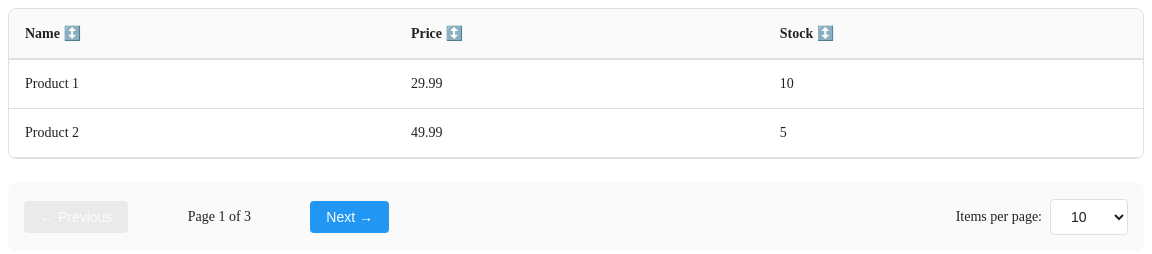
it: Table Component › should reset to page 1 when sorting changes
What coordinates should you click on to do the following:
click the button "Next →"
I would click on:
 (350, 217)
Its box is [310,201,389,233].
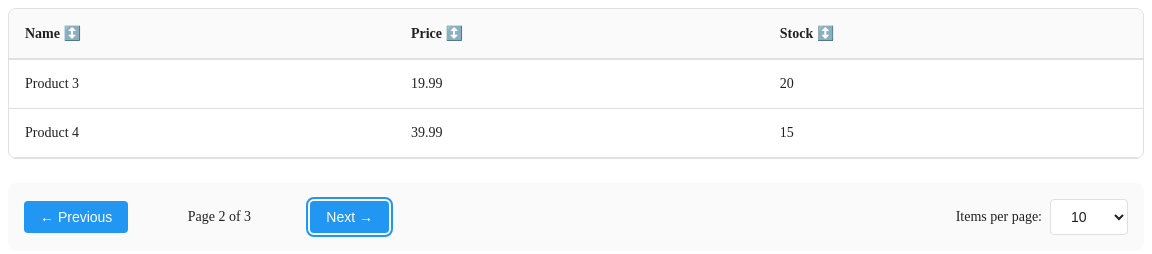
expect the text "Product 3" is shown: met, box [9,59,395,108]
What coordinates should you click on to do the following:
click the column heading "Name ↕️"
I would click on:
 (42, 34)
Its box is [9,9,395,59].
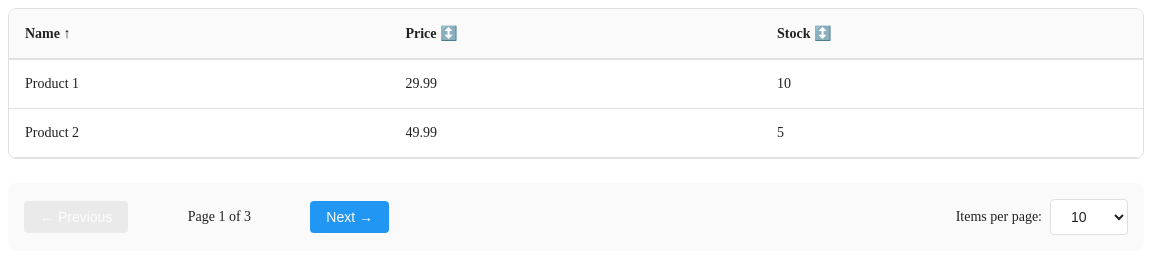
expect the text "Page 1 of 3" is shown: met, box [188,209,251,224]
